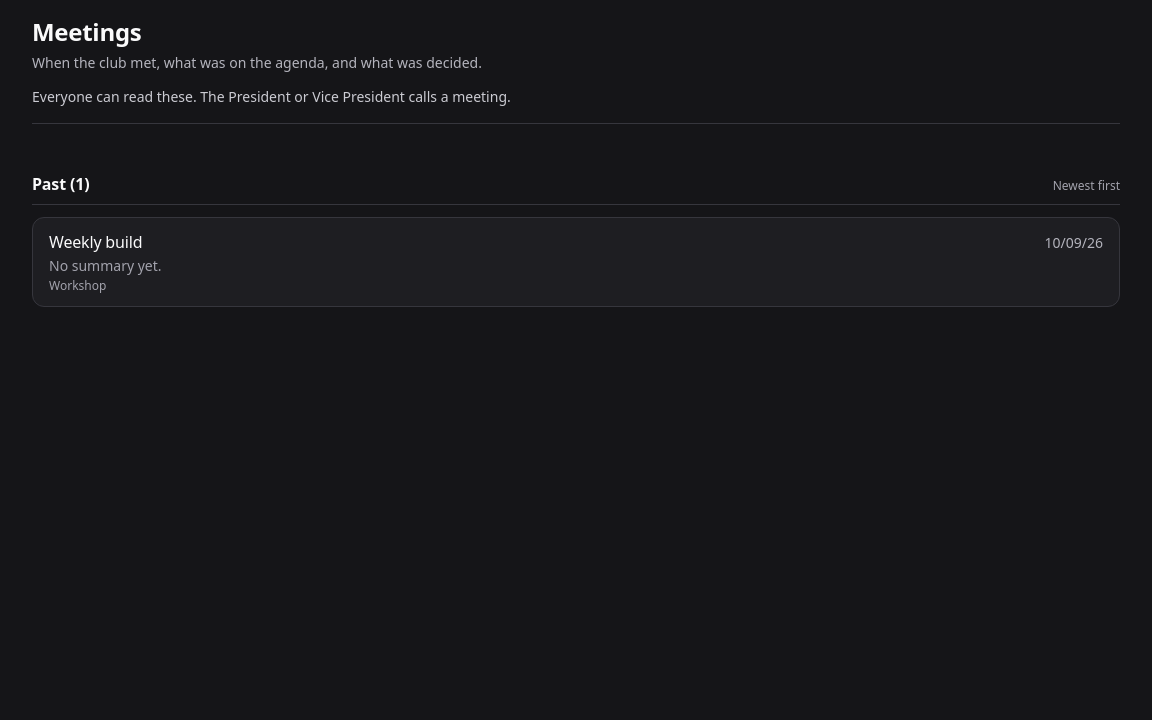
sharing a meeting › says so when the browser will not copy, and selects the text instead
Click the button "Weekly build" at (96, 242), box x1=49 y1=230 x2=142 y2=254
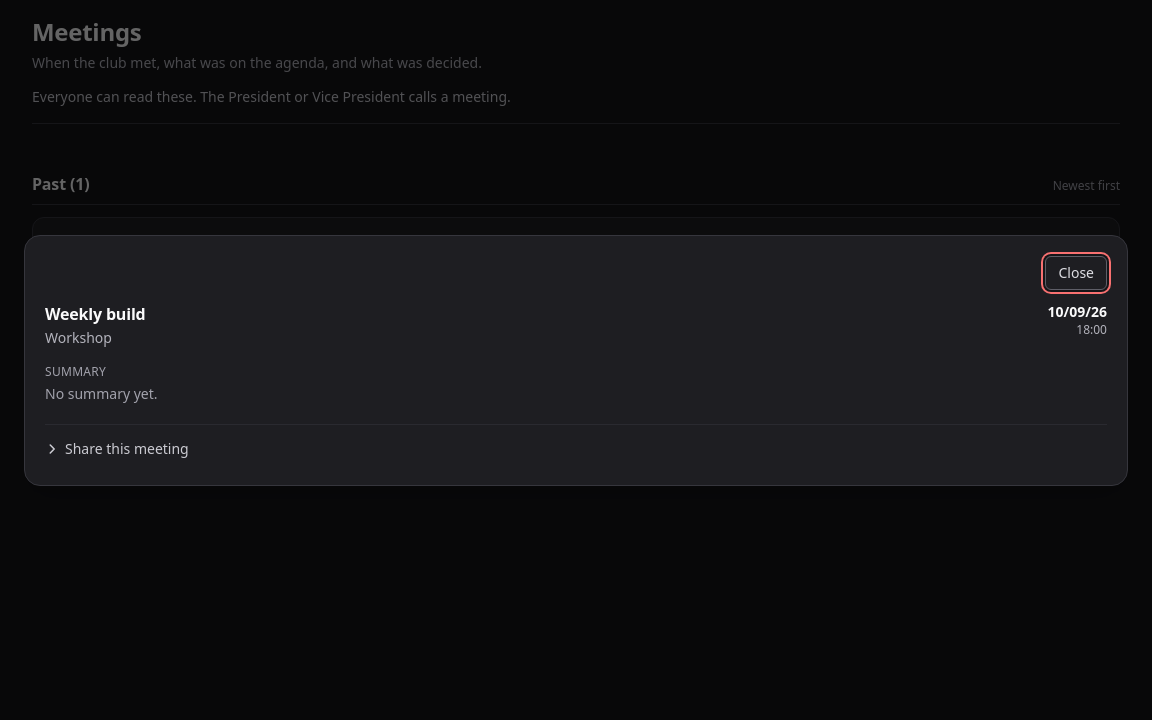
Click the heading "Share this meeting" at (117, 448), box x1=45 y1=438 x2=189 y2=458
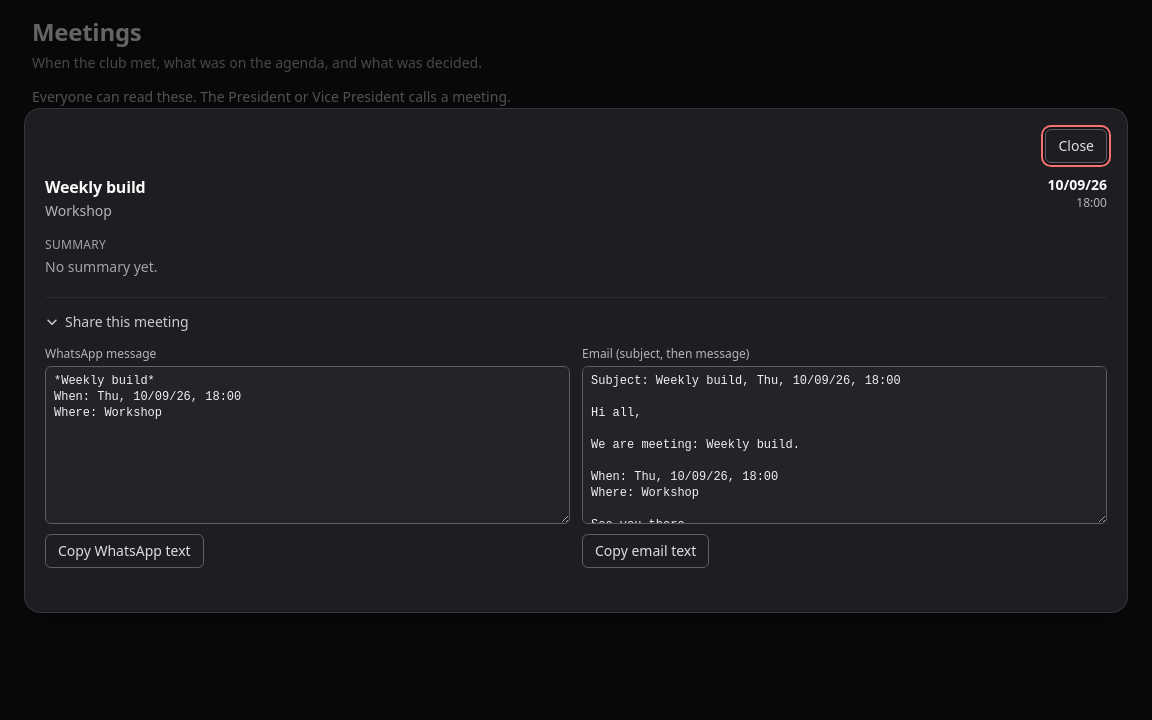
Click the button "Copy WhatsApp text" at (124, 550), box x1=45 y1=534 x2=204 y2=568
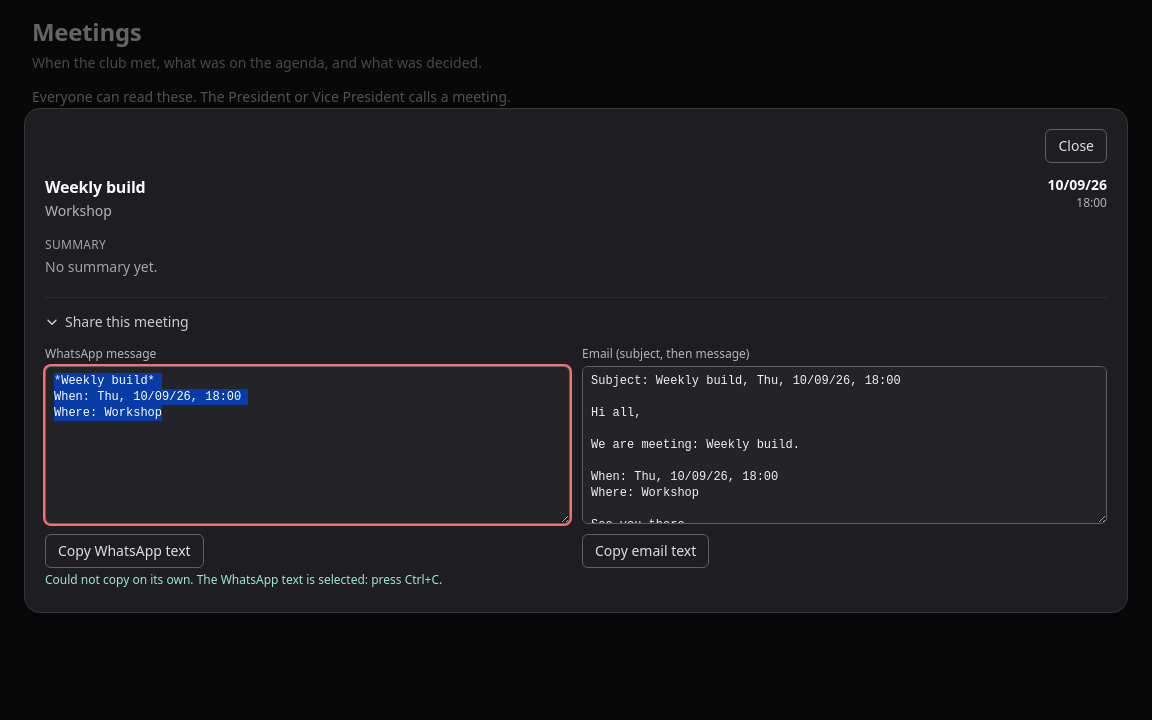
Result: the text "Could not copy on its own. The WhatsApp text is selected: press Ctrl+C." is shown at x1=45 y1=570 x2=442 y2=588
